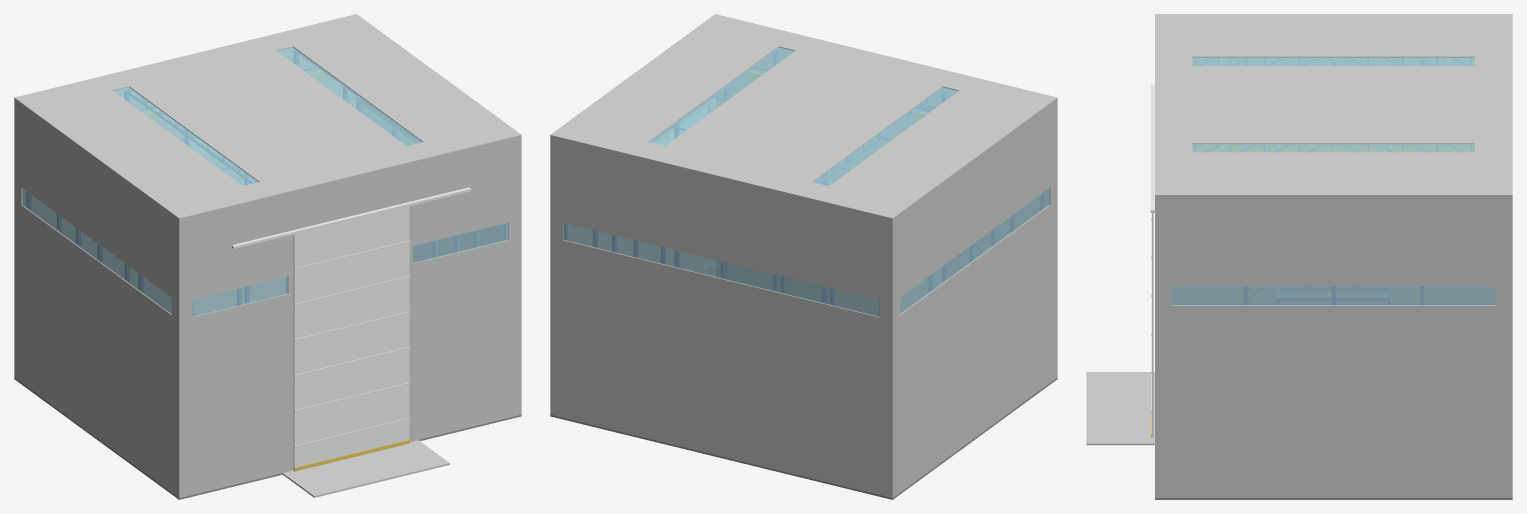
File: factory.glb
3 views of the same model, side by side, from view 1: azimuth 30°, elevation 25°; view 2: azimuth 150°, elevation 25°; view 3: azimuth 270°, elevation 25° (orthographic). The views are drawn at different scales.
Parts seen in each view (by area): view 1: walls, roof, door-left-panel, door-right-panel, windows, apron, skylights, door-track, columns, door-left-ribs, door-right-ribs, floor (+1 smaller); view 2: walls, roof, windows, skylights, columns, floor, door-right-panel, door-left-panel, roof-trusses; view 3: walls, roof, windows, skylights, apron, crane-bridge-girders, floor, door-track, control-room-walls, control-room-glass.
Boxes of the visible parts, x1,y1,x2,y2 form: walls: (14, 49, 521, 497); roof: (14, 14, 521, 219); door-left-panel: (293, 220, 351, 470); door-right-panel: (352, 206, 409, 453); windows: (22, 106, 508, 316); apron: (282, 440, 449, 497); skylights: (113, 47, 422, 185); door-track: (232, 187, 471, 248); columns: (27, 50, 507, 304); door-left-ribs: (294, 254, 352, 447); door-right-ribs: (352, 240, 409, 433); floor: (14, 378, 521, 499); walls: (550, 49, 1057, 497); roof: (550, 14, 1057, 219); windows: (563, 106, 1049, 316); skylights: (649, 47, 958, 185); columns: (564, 50, 1044, 304); floor: (550, 378, 1057, 499); door-right-panel: (830, 130, 886, 315); door-left-panel: (888, 109, 941, 311); roof-trusses: (652, 52, 943, 183); walls: (1155, 59, 1512, 497); roof: (1155, 14, 1512, 196); windows: (1171, 286, 1496, 305); skylights: (1192, 57, 1474, 152); apron: (1086, 372, 1154, 445); crane-bridge-girders: (1193, 146, 1474, 151); floor: (1155, 498, 1512, 499); door-track: (1150, 84, 1154, 212); control-room-walls: (1278, 287, 1389, 297); control-room-glass: (1279, 287, 1388, 291).
Size of the model in its own units: 60.6 by 47.6 by 60.3.
